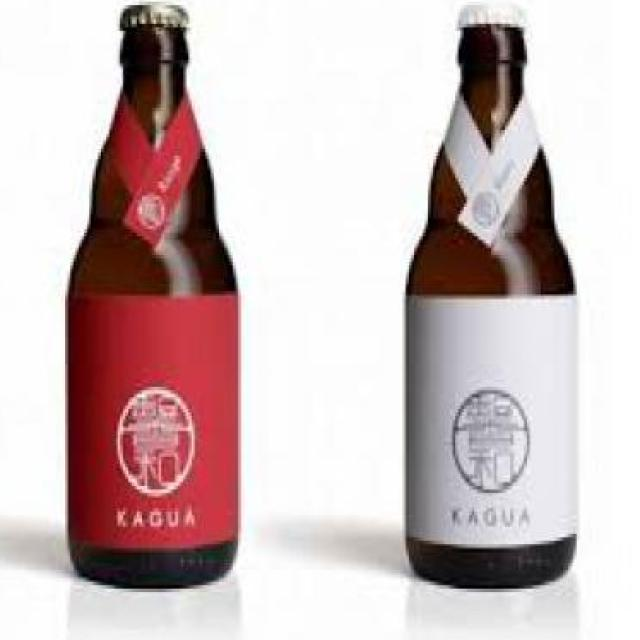kaca: (404, 23, 577, 586), (65, 21, 236, 585)
